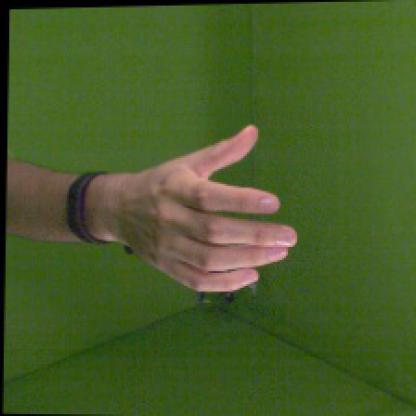Hand: (108, 124, 298, 292)
